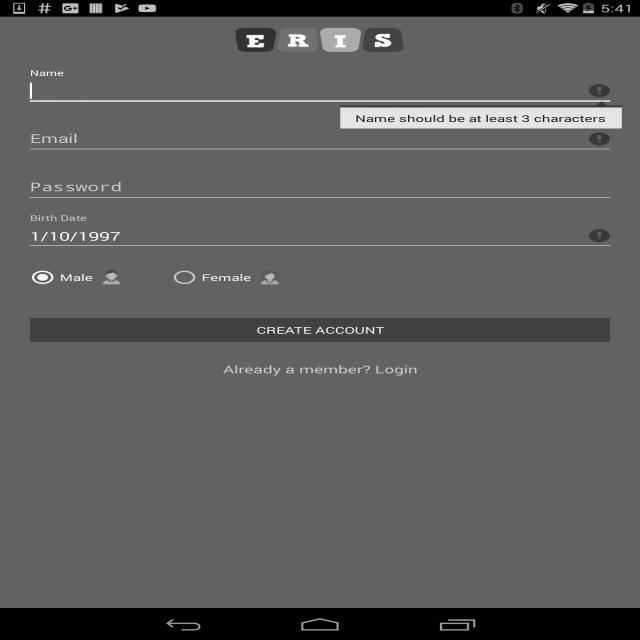Button: (26, 314, 614, 346)
EditText: (26, 124, 614, 155), (26, 76, 614, 106), (26, 173, 614, 203), (26, 221, 614, 251)
ImageView: (130, 23, 510, 57)
RadioButton: (168, 267, 283, 288), (26, 267, 124, 288)
TextView: (26, 362, 614, 376)
